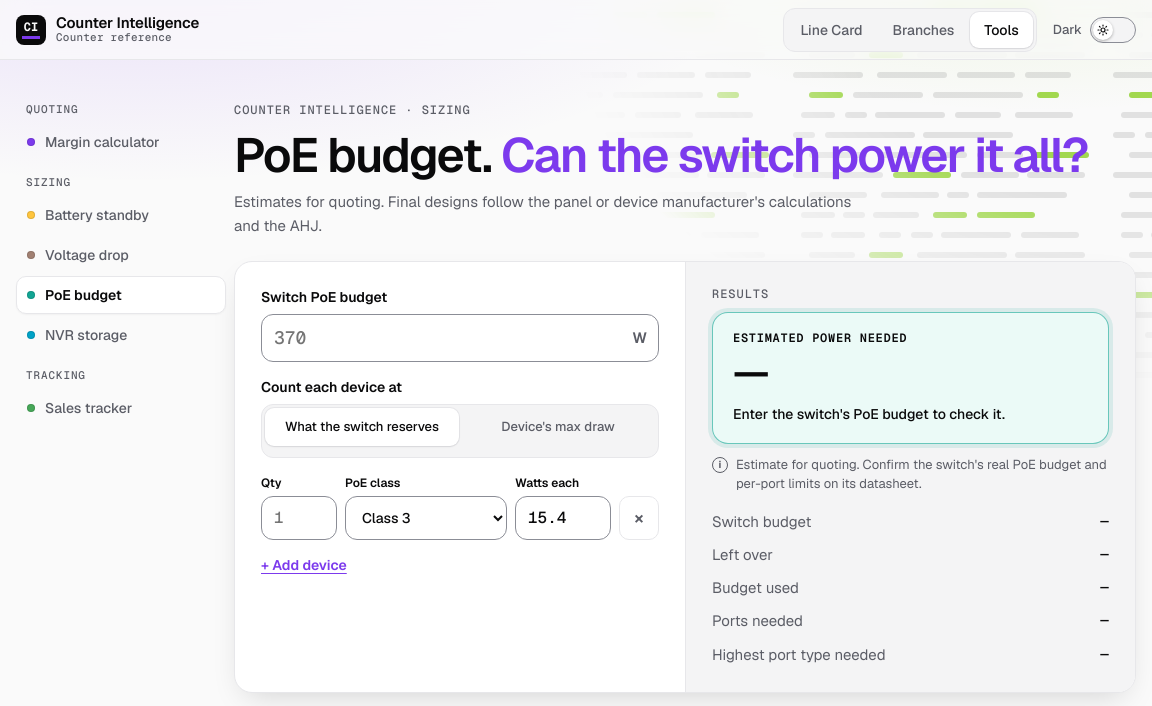
it: Sizing tools › PoE budget: 8 Class 3 cameras are over a 120 W budget reserved, under it drawn
Type "120" into the field with test id "poe-budget" at (460, 338), box [261,314,659,362]
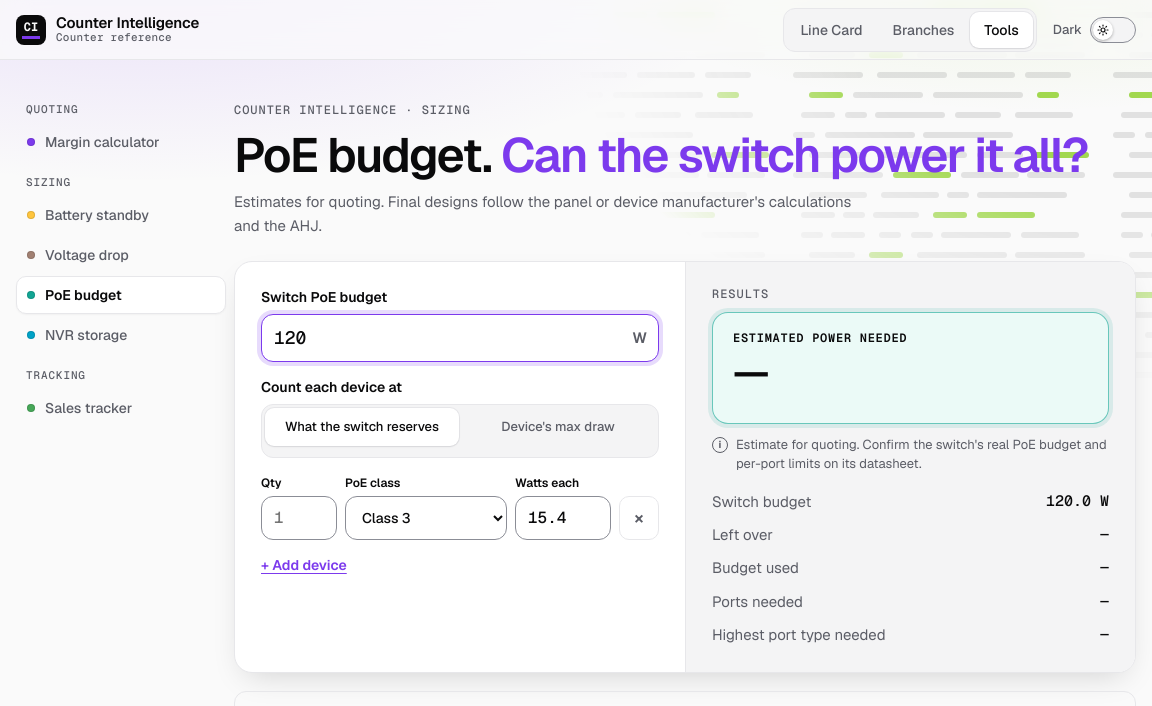
Type "8" into the field with test id "poe-quantity" at (299, 518), box [261,496,337,540]
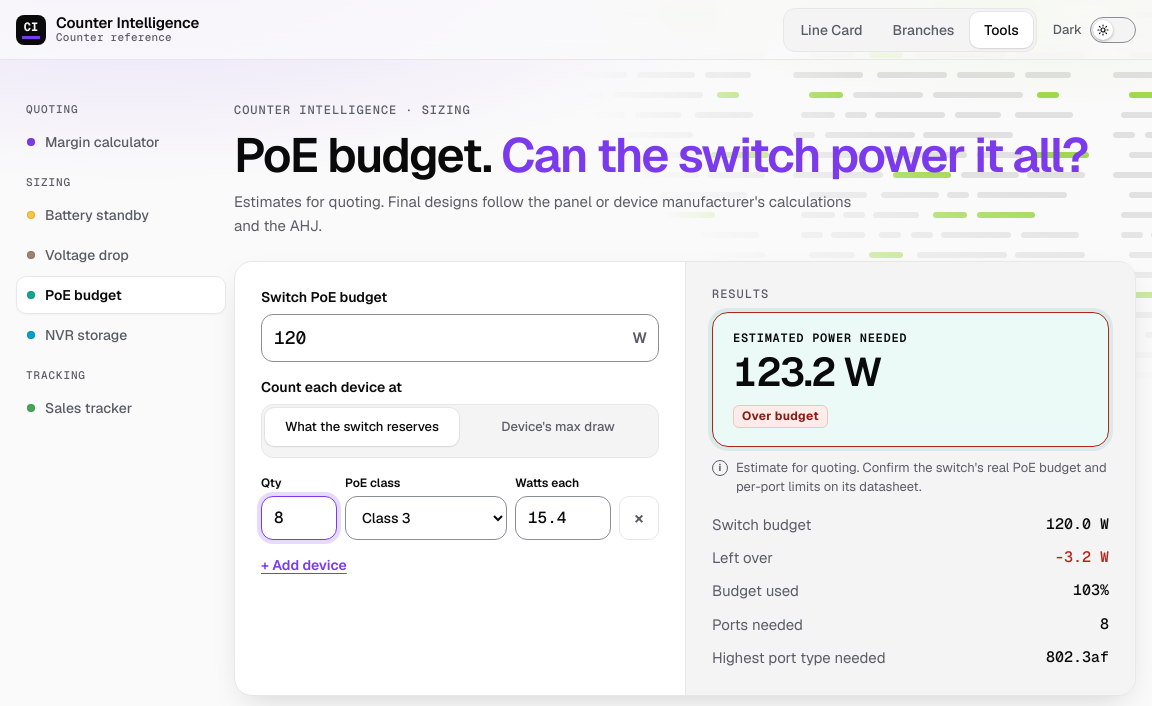
expect the text with test id "poe-total" reads "123.2 W": met, box [733,351,1088,393]
expect the element with test id "poe-verdict" reads "Over budget": met, box [733,405,828,428]
Check the radio button with test id "poe-basis-device" at (558, 427), box [461,408,655,446]
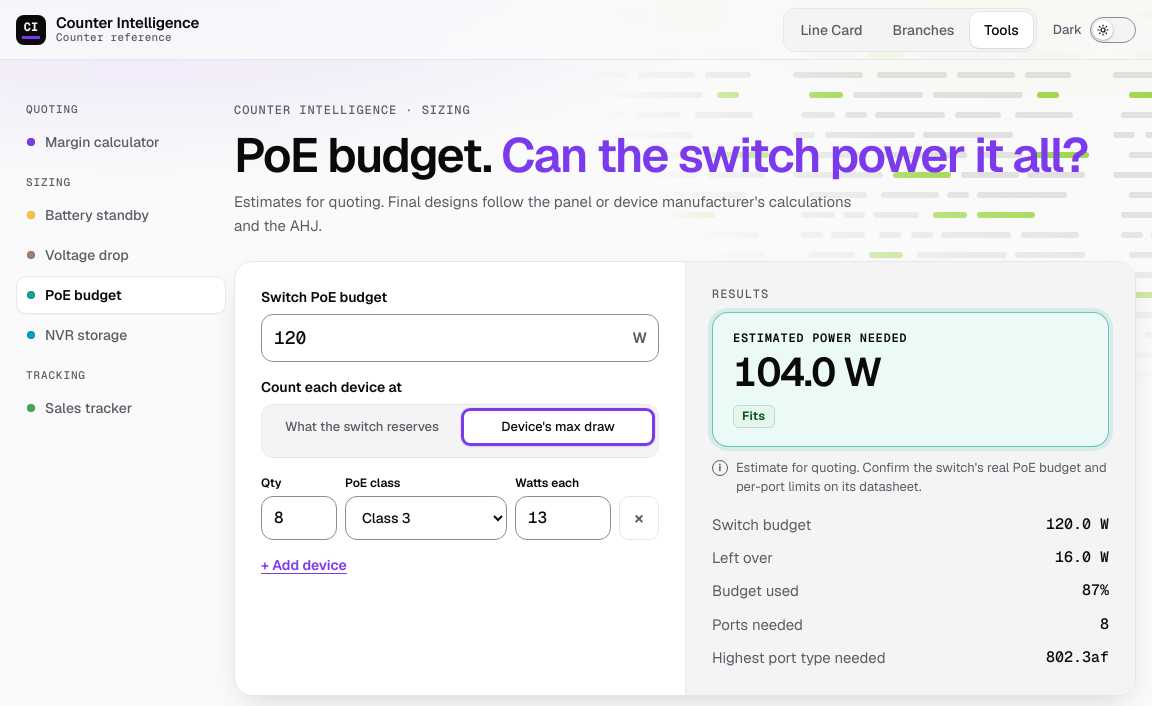
expect the text with test id "poe-total" reads "104.0 W": met, box [733,351,1088,393]
